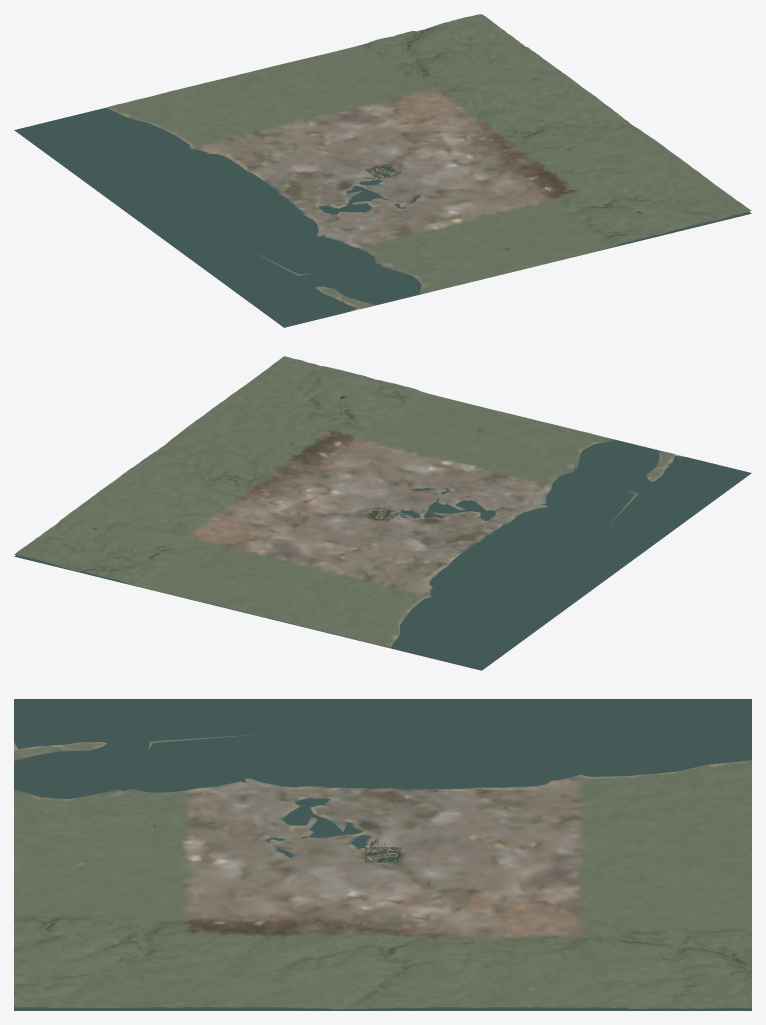
File: optus_backdrop_part1.glb
The picture shows the model from 3 angles, top to bottom: view 1: azimuth 30°, elevation 25°; view 2: azimuth 150°, elevation 25°; view 3: azimuth 270°, elevation 25°; orthographic projection. The views are drawn at different scales.
Visible parts, largest first — view 1: bg_far_terrain, bg_far_water; view 2: bg_far_terrain, bg_far_water; view 3: bg_far_terrain, bg_far_water, bg_near_ground.
Part boxes in pixels (x1,y1,x2,y2): bg_far_terrain: (105,14,751,311); bg_far_water: (14,108,751,327); bg_far_terrain: (14,356,685,648); bg_far_water: (14,439,751,670); bg_far_terrain: (14,734,751,1009); bg_far_water: (14,699,751,1010); bg_near_ground: (364,847,401,862).
Size of the model in its own units: 60001 by 427 by 60001.
Materials: 81 (61 with a texture image).
